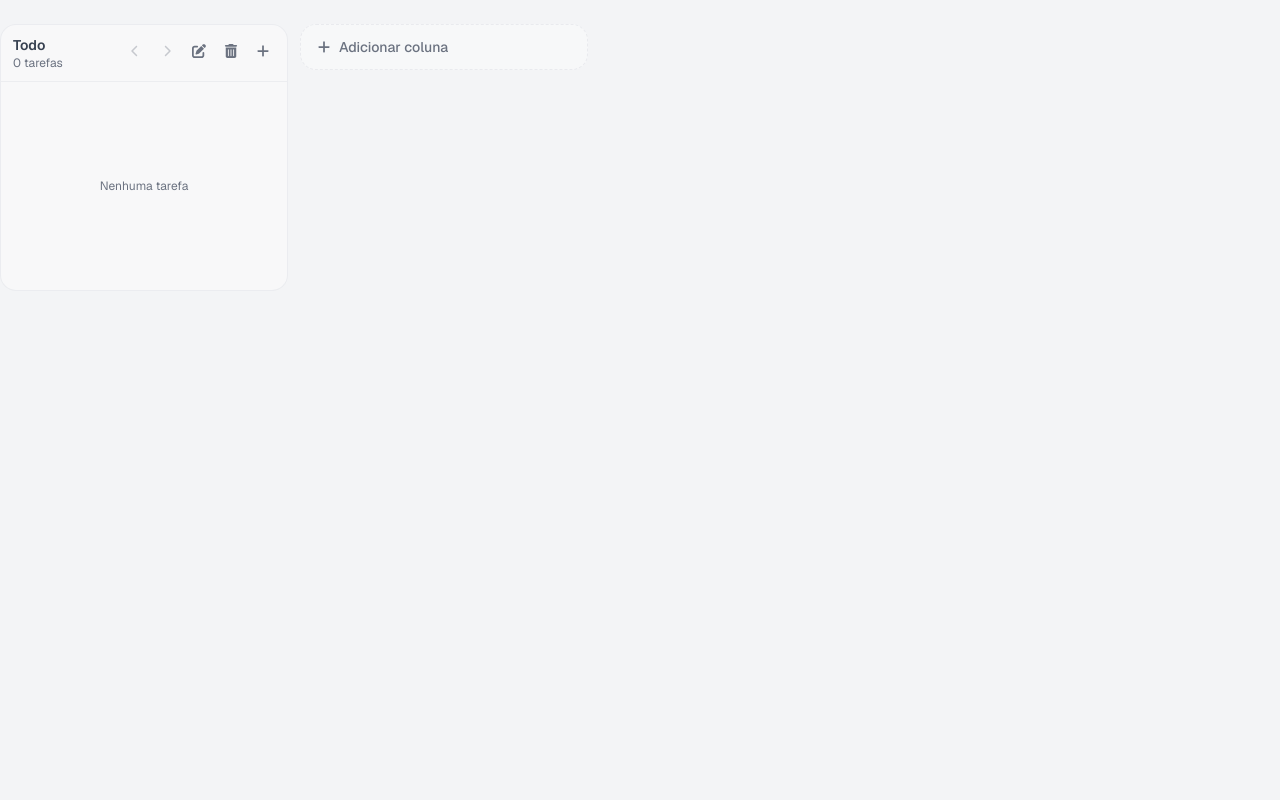
Test case: gestão de colunas no ProjectKanban › renomeia coluna
This screenshot has width=1280, height=800.
Step 1. Click the button named "Renomear Todo" → point(199, 51), box [183,35,215,67]
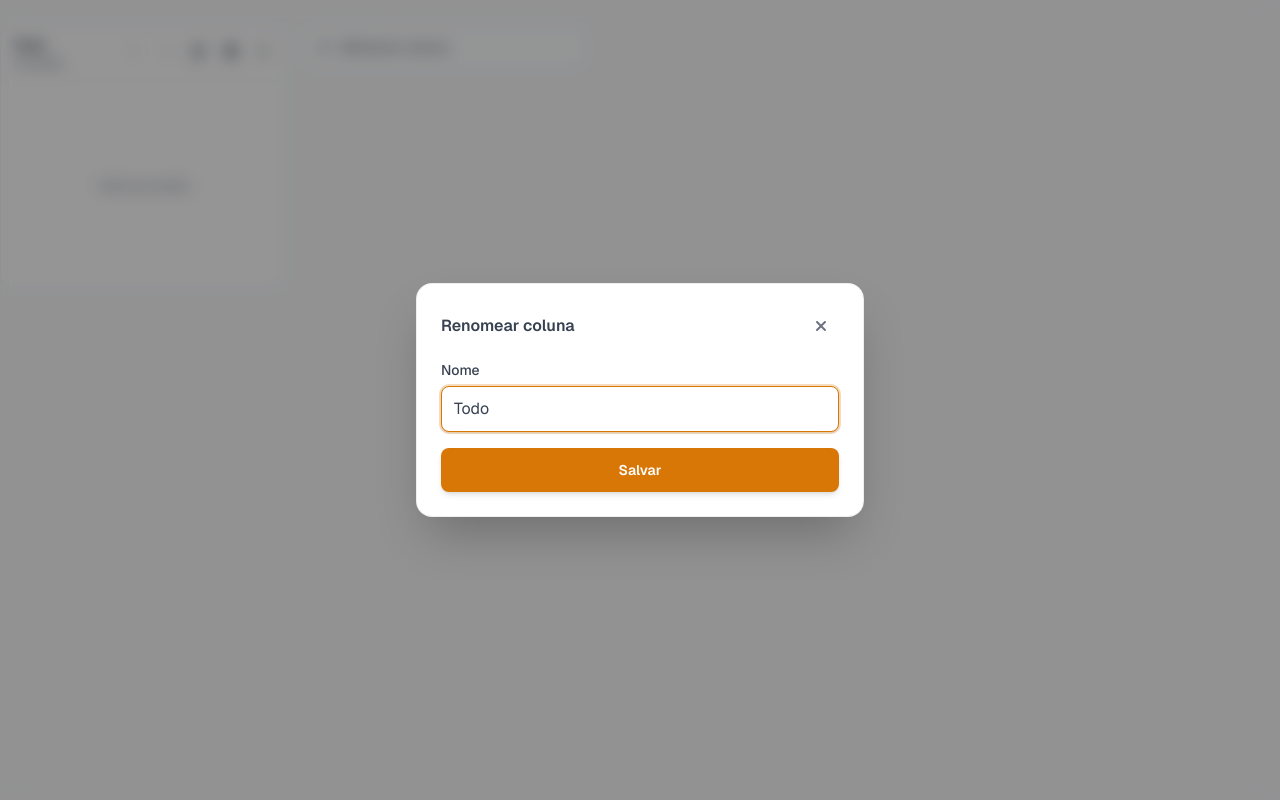
Step 2. Replace the text in the field labelled "Nome" with "A fazer" → point(640, 409), box [441,386,839,432]
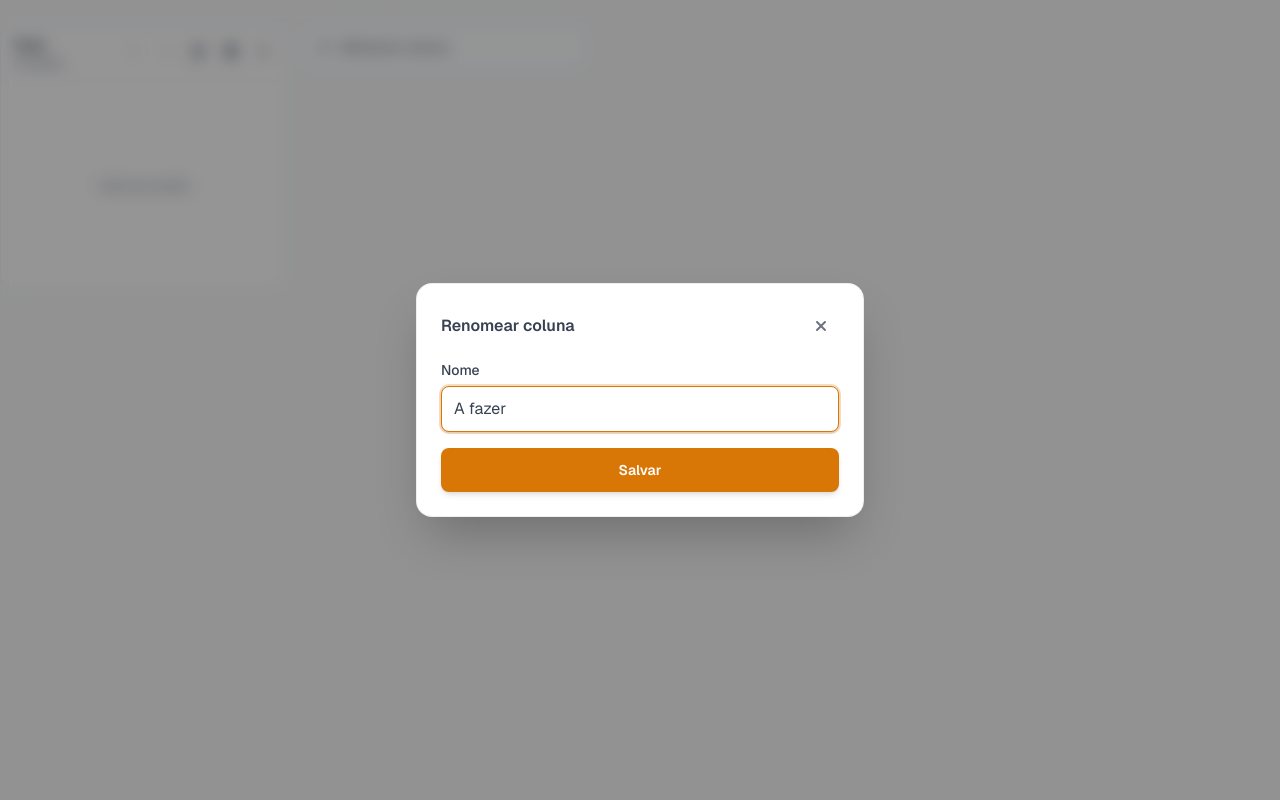
Step 3. Click the button "Salvar" → point(640, 470), box [441,448,839,492]
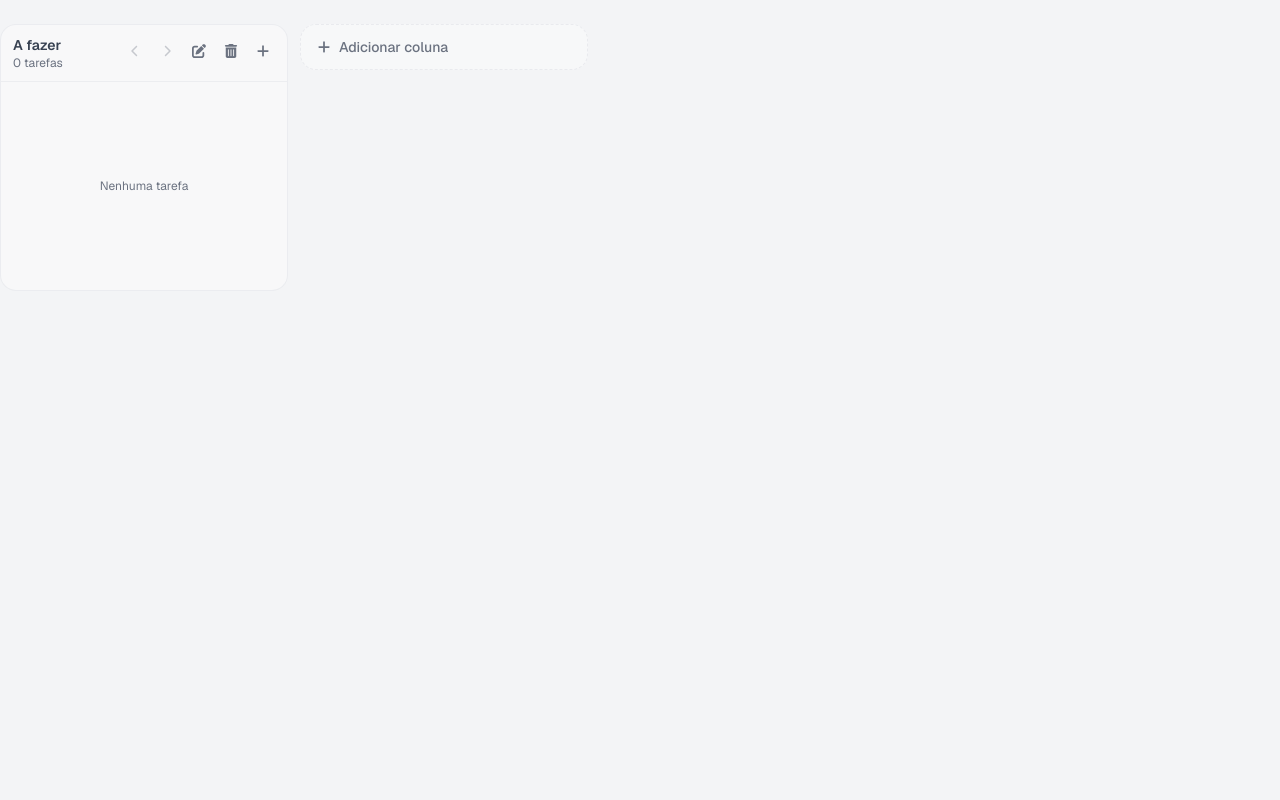
Result: the heading "A fazer" is shown at [13,36,61,54]
